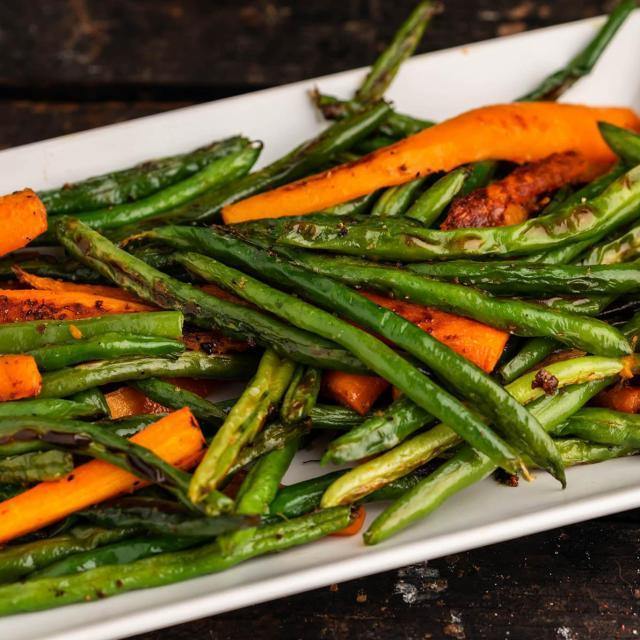Beans: (0, 20, 639, 628)
